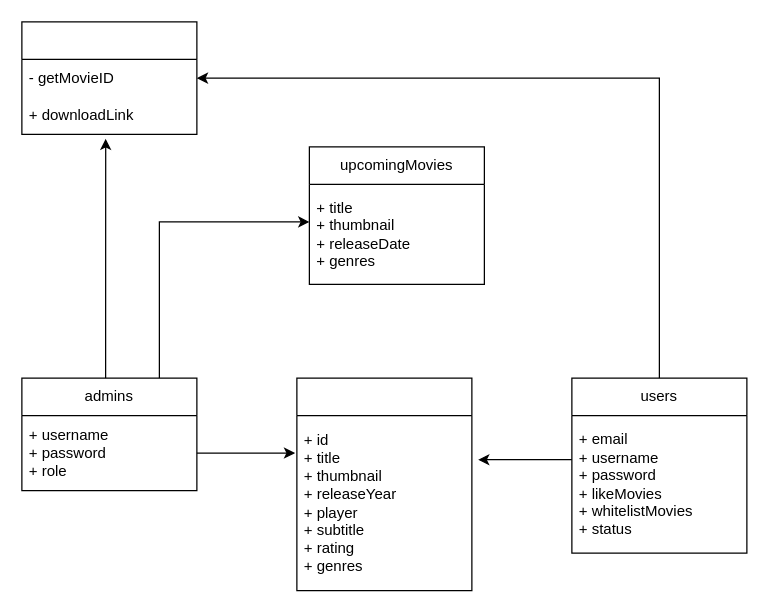
This 769x613 diagram has some shape labels left out. The box of each missing label's shape, as (x1, y1, x2, y2) in pixels:
downloadMovies: (21, 21, 197, 134)
moviesDB: (296, 377, 472, 591)
